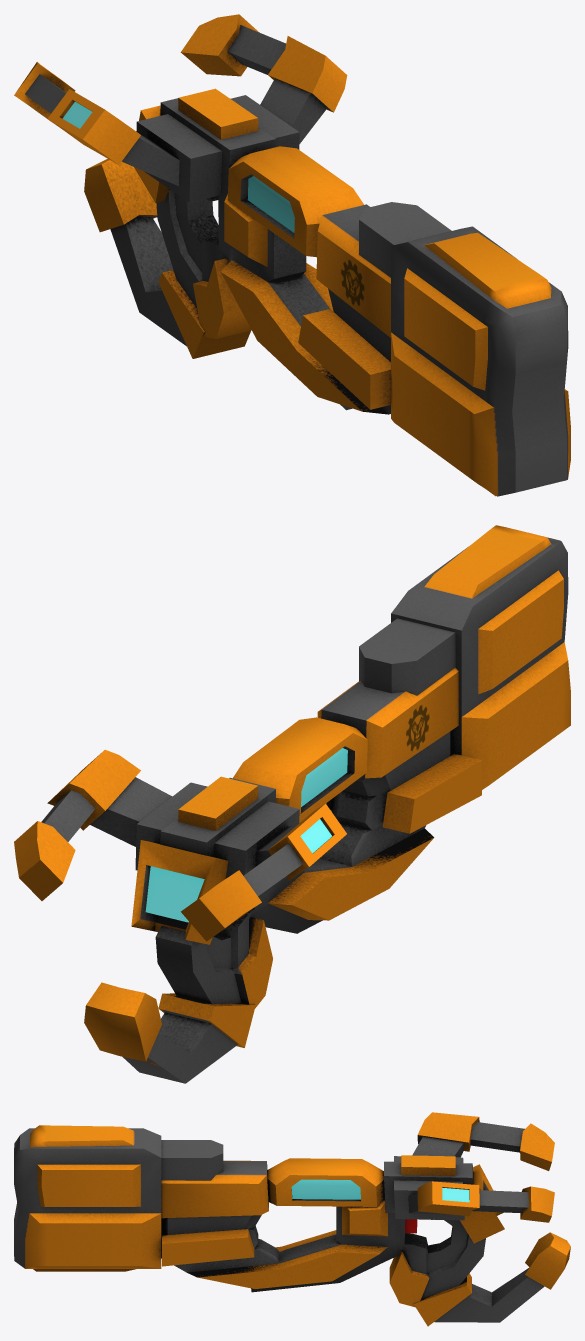
The model's file is Gun.fbx.
The picture shows the model from 3 angles, top to bottom: view 1: azimuth 30°, elevation 25°; view 2: azimuth 150°, elevation 25°; view 3: azimuth 270°, elevation 25°; orthographic projection. The views are drawn at different scales.
Visible parts, largest first — view 1: Gun; view 2: Gun; view 3: Gun.
Part boxes in pixels (bbox=[...]): Gun: bbox=[14, 14, 570, 496]; Gun: bbox=[14, 525, 570, 1083]; Gun: bbox=[14, 1112, 570, 1326].
Bounding box in the file's own units: 159 × 166 × 452.
